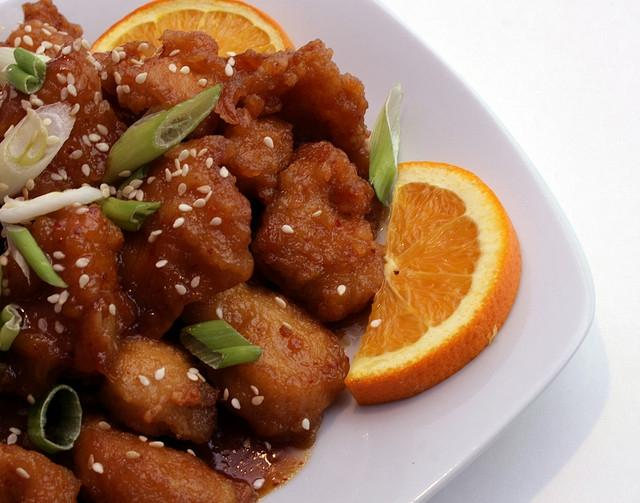green onion: (100, 84, 222, 187), (0, 102, 76, 205), (369, 80, 404, 208), (178, 320, 265, 369), (5, 223, 70, 288), (28, 385, 82, 450), (96, 197, 162, 232), (5, 46, 47, 94), (0, 304, 22, 351)
orange: (343, 162, 522, 406), (90, 0, 295, 57)
